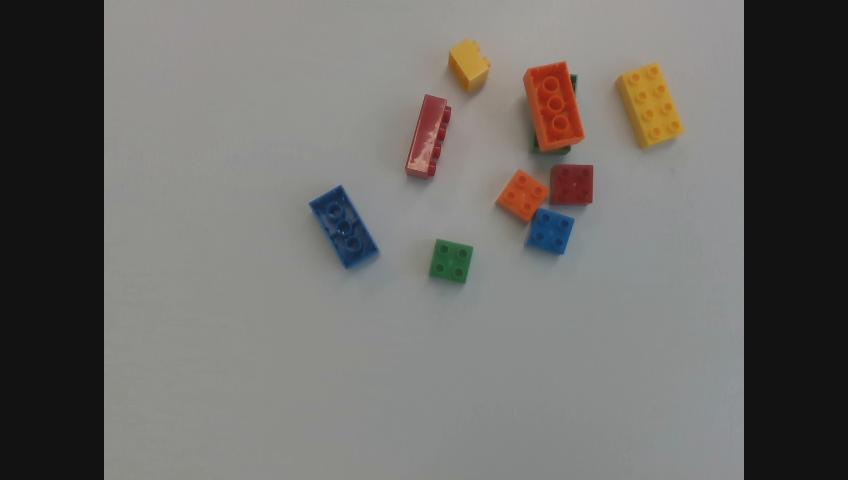2x2_blue: (526, 207, 575, 254)
2x2_green: (430, 239, 472, 281)
2x2_orange: (496, 170, 548, 219)
2x2_red: (551, 164, 592, 203)
2x2_yellow: (449, 38, 490, 90)
4x2_blue: (308, 185, 379, 266)
4x2_orange: (524, 60, 584, 150)
4x2_red: (404, 93, 451, 177)
4x2_yellow: (617, 62, 686, 149)
